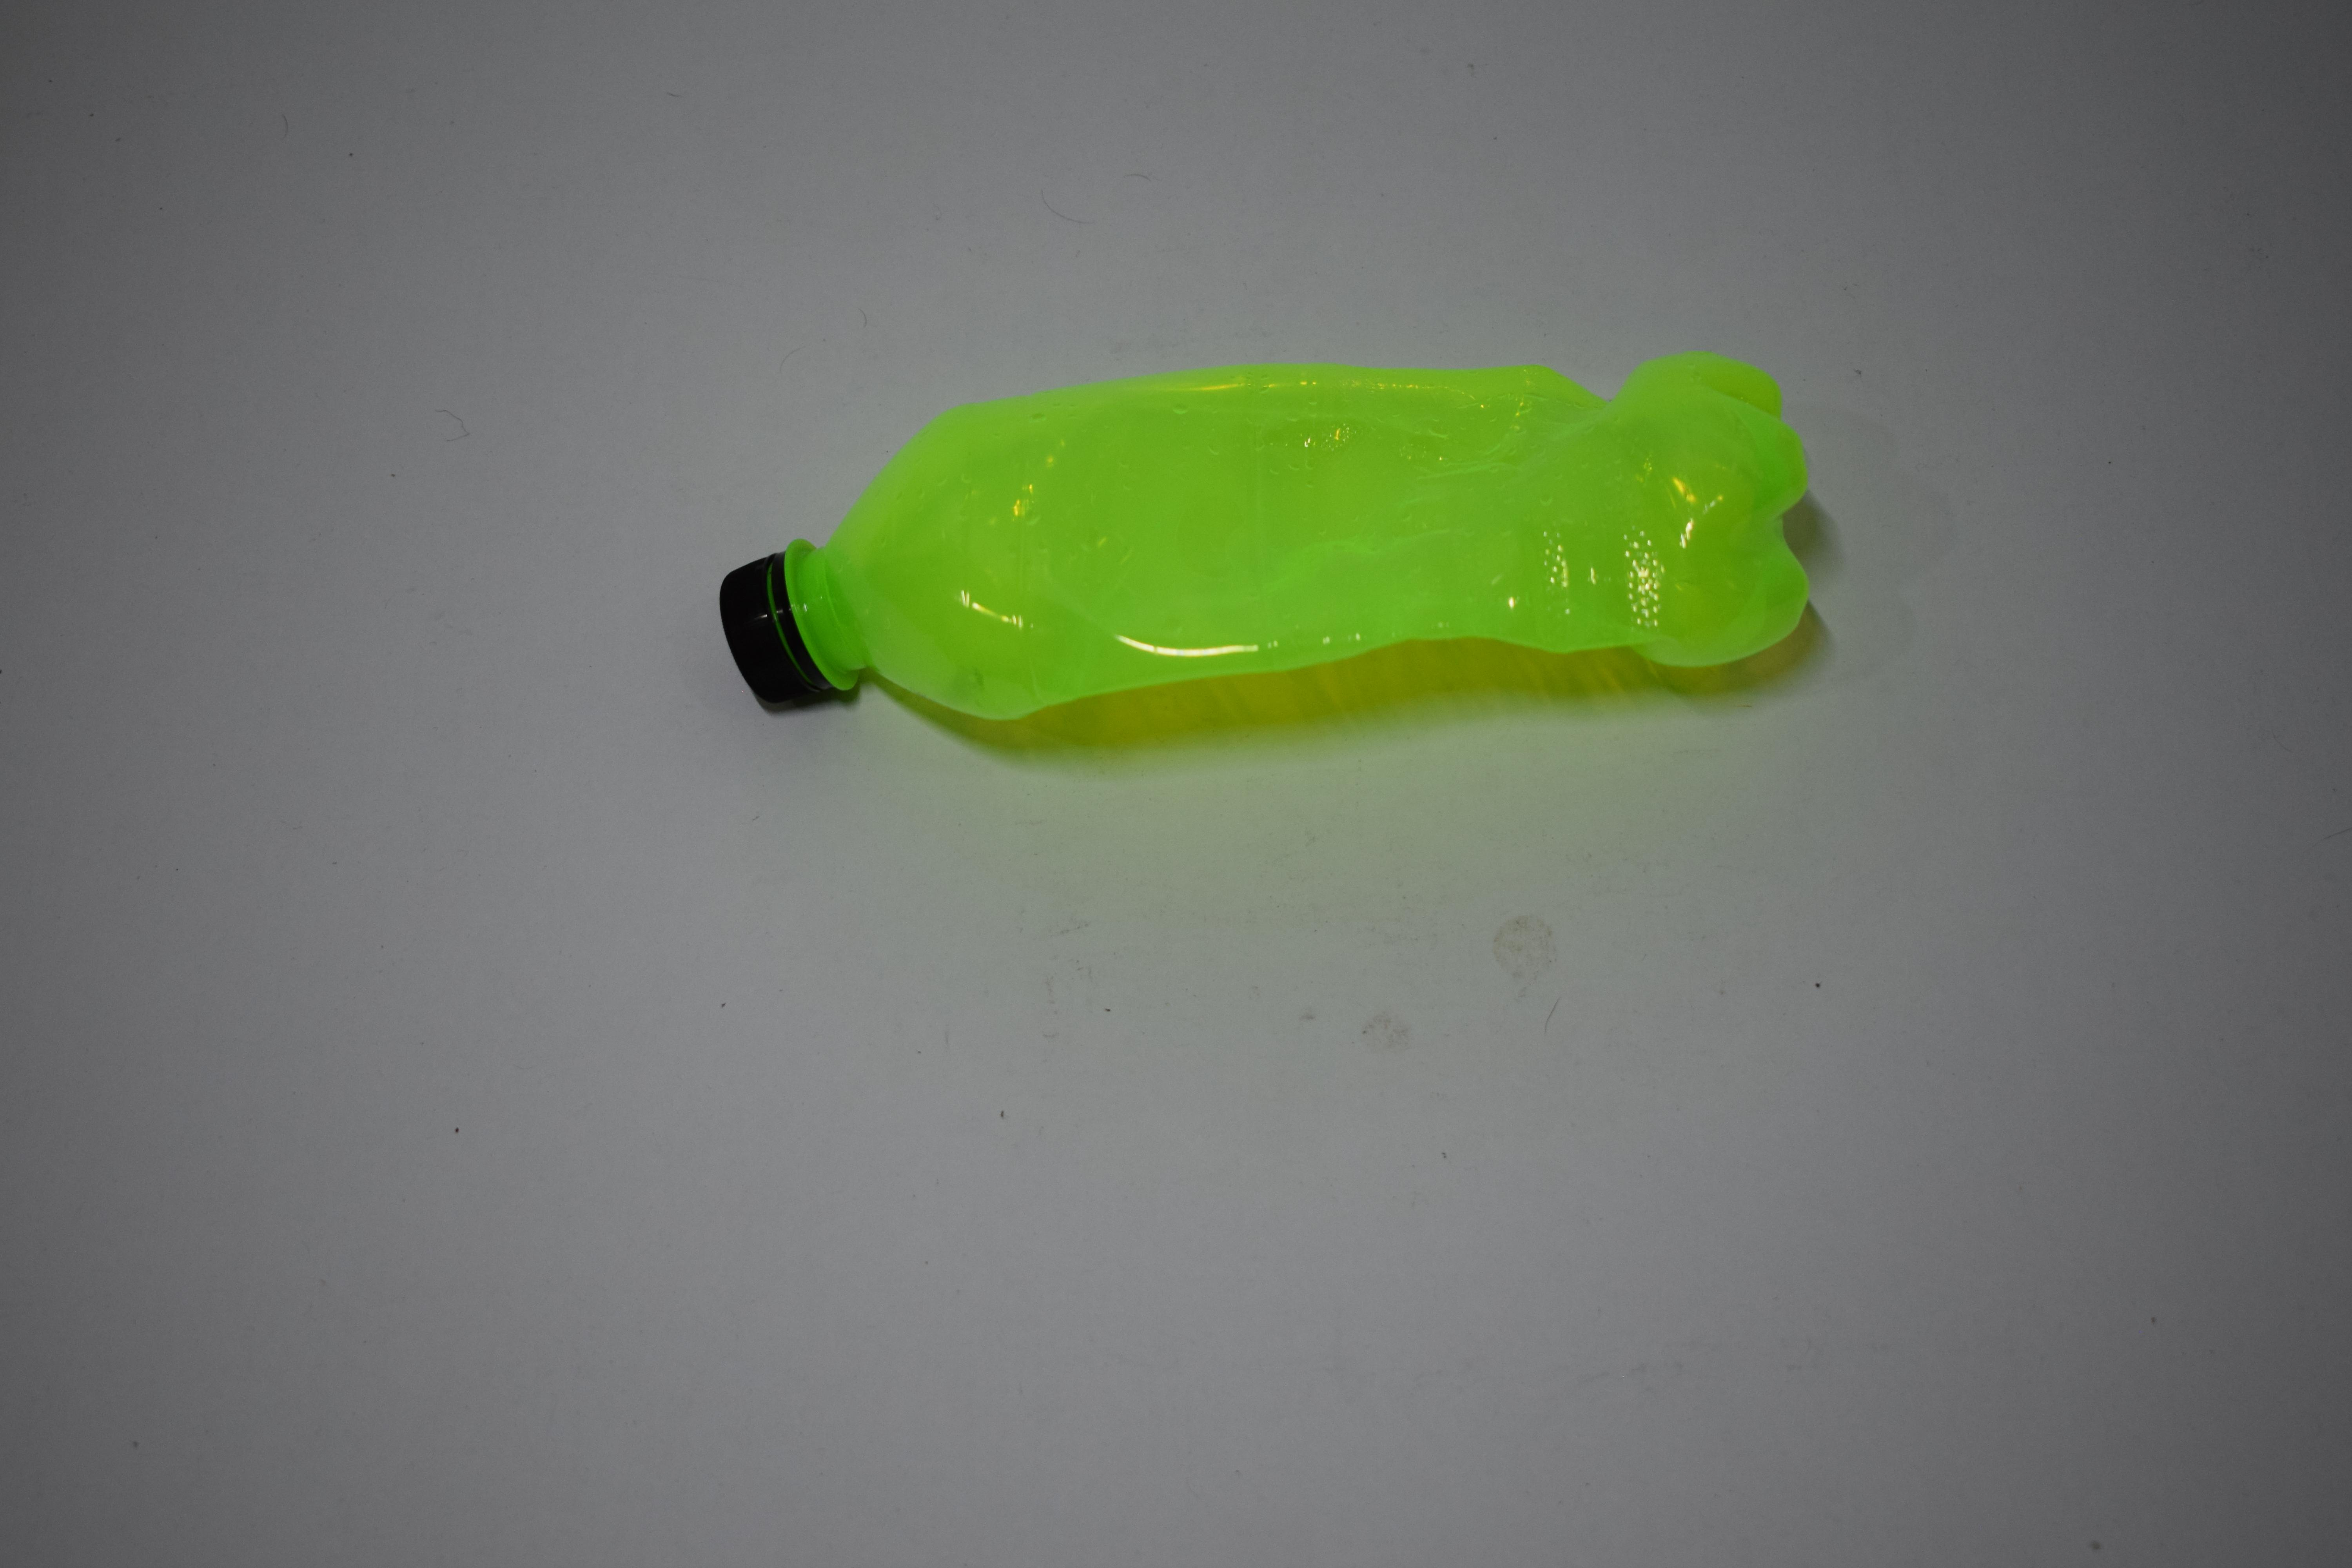bottle: (0, 376, 647, 690)
